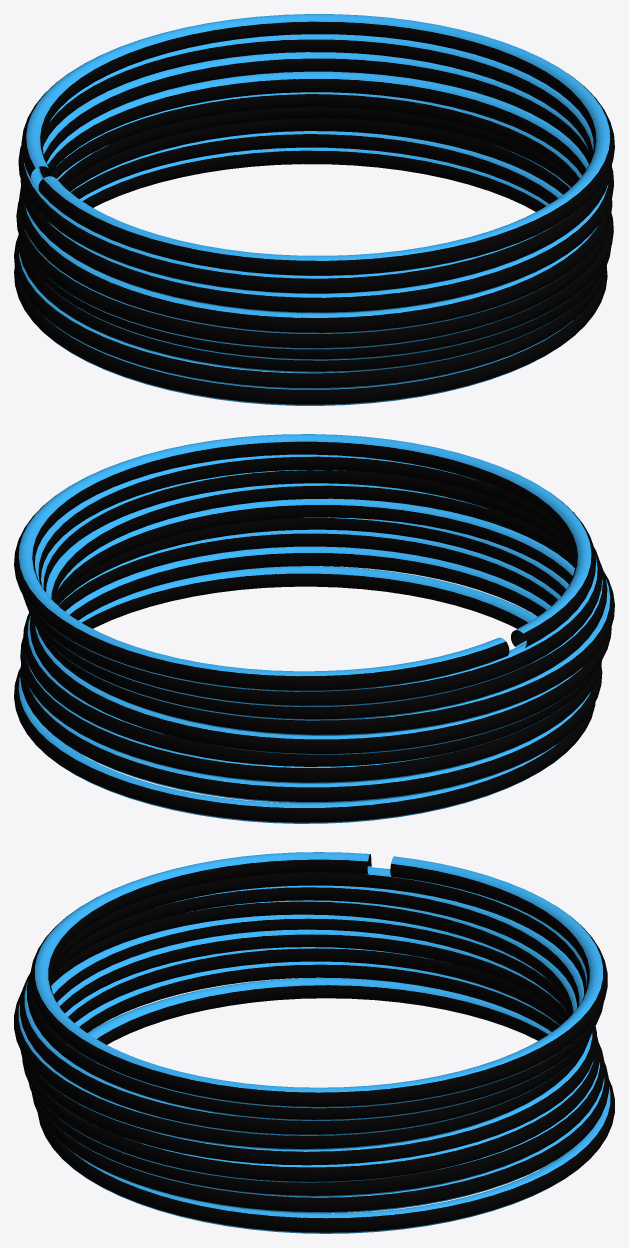
File: hdpe.glb
3 views of the same model, one above another, from view 1: azimuth 30°, elevation 25°; view 2: azimuth 150°, elevation 25°; view 3: azimuth 270°, elevation 25° (orthographic). The views are drawn at different scales.
Parts seen in each view (by area): view 1: Torus.009, Torus.006, Torus.007, Torus.008, Torus.002, Torus.001, Torus.005, Torus.003, Torus.004; view 2: Torus.009, Torus.001, Torus.002, Torus.005, Torus.003, Torus.006, Torus.008, Torus.007, Torus.004; view 3: Torus.009, Torus.001, Torus.004, Torus.005, Torus.002, Torus.007, Torus.006, Torus.003, Torus.008.
Boxes of the visible parts, box(x1,y1,x2,y2) form: Torus.009: box(21, 14, 614, 275); Torus.006: box(19, 71, 612, 333); Torus.007: box(20, 52, 613, 313); Torus.008: box(18, 34, 611, 293); Torus.002: box(14, 131, 606, 389); Torus.001: box(14, 147, 607, 405); Torus.005: box(16, 92, 609, 349); Torus.003: box(18, 118, 611, 372); Torus.004: box(23, 107, 613, 360); Torus.009: box(14, 434, 596, 691); Torus.001: box(14, 566, 595, 823); Torus.002: box(20, 546, 602, 803); Torus.005: box(29, 498, 611, 754); Torus.003: box(20, 529, 601, 783); Torus.006: box(37, 483, 614, 735); Torus.008: box(23, 454, 602, 706); Torus.007: box(27, 470, 607, 720); Torus.004: box(23, 517, 599, 766); Torus.009: box(30, 852, 607, 1108); Torus.001: box(37, 977, 614, 1233); Torus.004: box(22, 929, 599, 1182); Torus.005: box(20, 914, 596, 1165); Torus.002: box(32, 961, 608, 1213); Torus.007: box(20, 885, 593, 1135); Torus.006: box(14, 900, 588, 1150); Torus.003: box(29, 947, 604, 1196); Torus.008: box(27, 867, 603, 1120).
Bounding box in the file's own units: 0.5718 × 0.1562 × 0.5822.
Materials: 1 (1 with a texture image).
